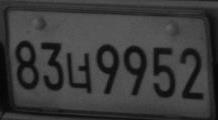2: (179, 46, 205, 100)
3: (40, 40, 64, 90)
5: (151, 46, 176, 98)
8: (14, 38, 39, 90)
9: (122, 43, 147, 96), (95, 43, 120, 95)
너: (66, 51, 92, 93)
